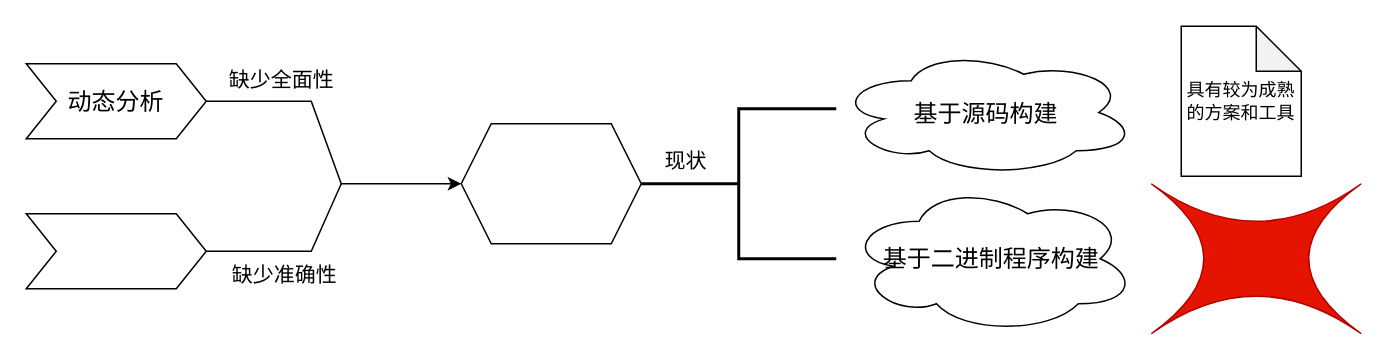
Image size: 1388x360. Some labels were removed from this diagram. Each missing label, with the centre of its shape:
"暂时空白" goes at (x=1255, y=258).
"软件图谱" goes at (x=550, y=183).
"静态分析" goes at (x=115, y=250).
